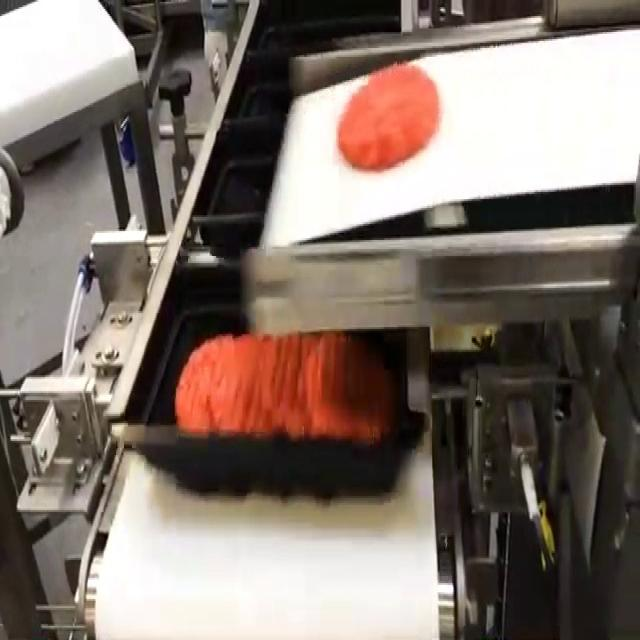4-hamburguer: (175, 332, 397, 441)
hamburguer: (338, 62, 440, 171)
